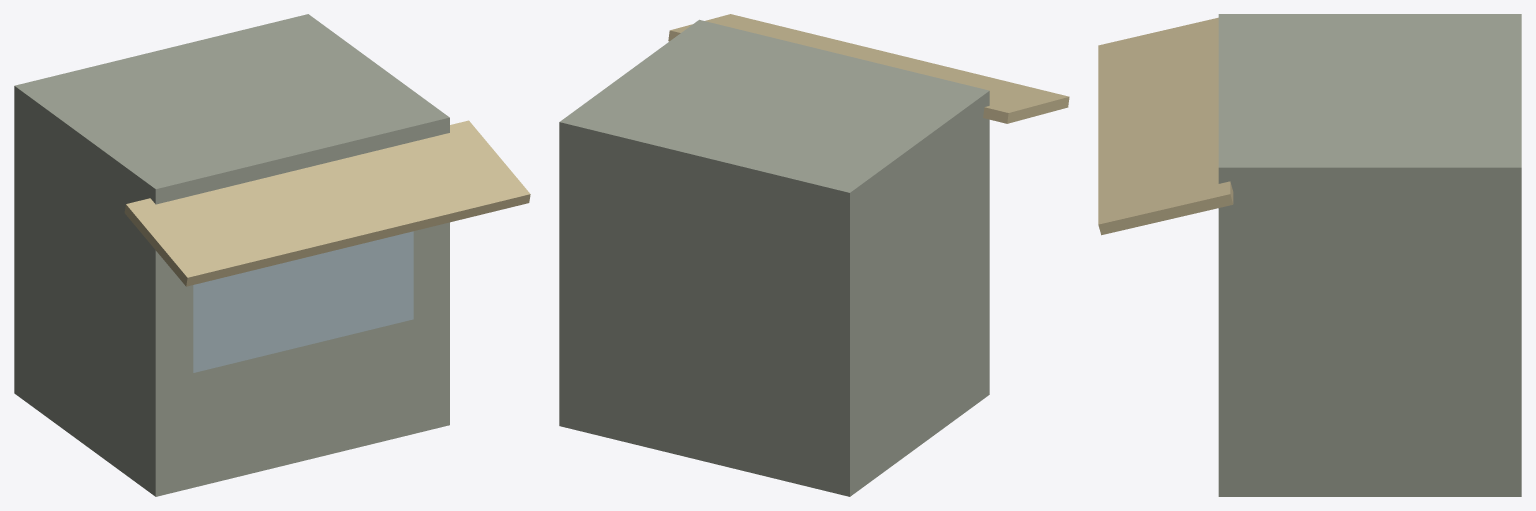
The model's file is kiosk_2.glb.
3 renders of one model, left to right at view 1: azimuth 30°, elevation 25°; view 2: azimuth 150°, elevation 25°; view 3: azimuth 270°, elevation 25°, orthographic. The views are drawn at different scales.
Parts seen in each view (by area): view 1: kiosk_2; view 2: kiosk_2; view 3: kiosk_2.
Part boxes in pixels (box(x1,y1,x2,y2)): kiosk_2: box(14, 14, 530, 496); kiosk_2: box(559, 14, 1069, 496); kiosk_2: box(1098, 14, 1521, 496).
Bounding box in the file's own units: 2.8 × 2.4 × 2.8.
